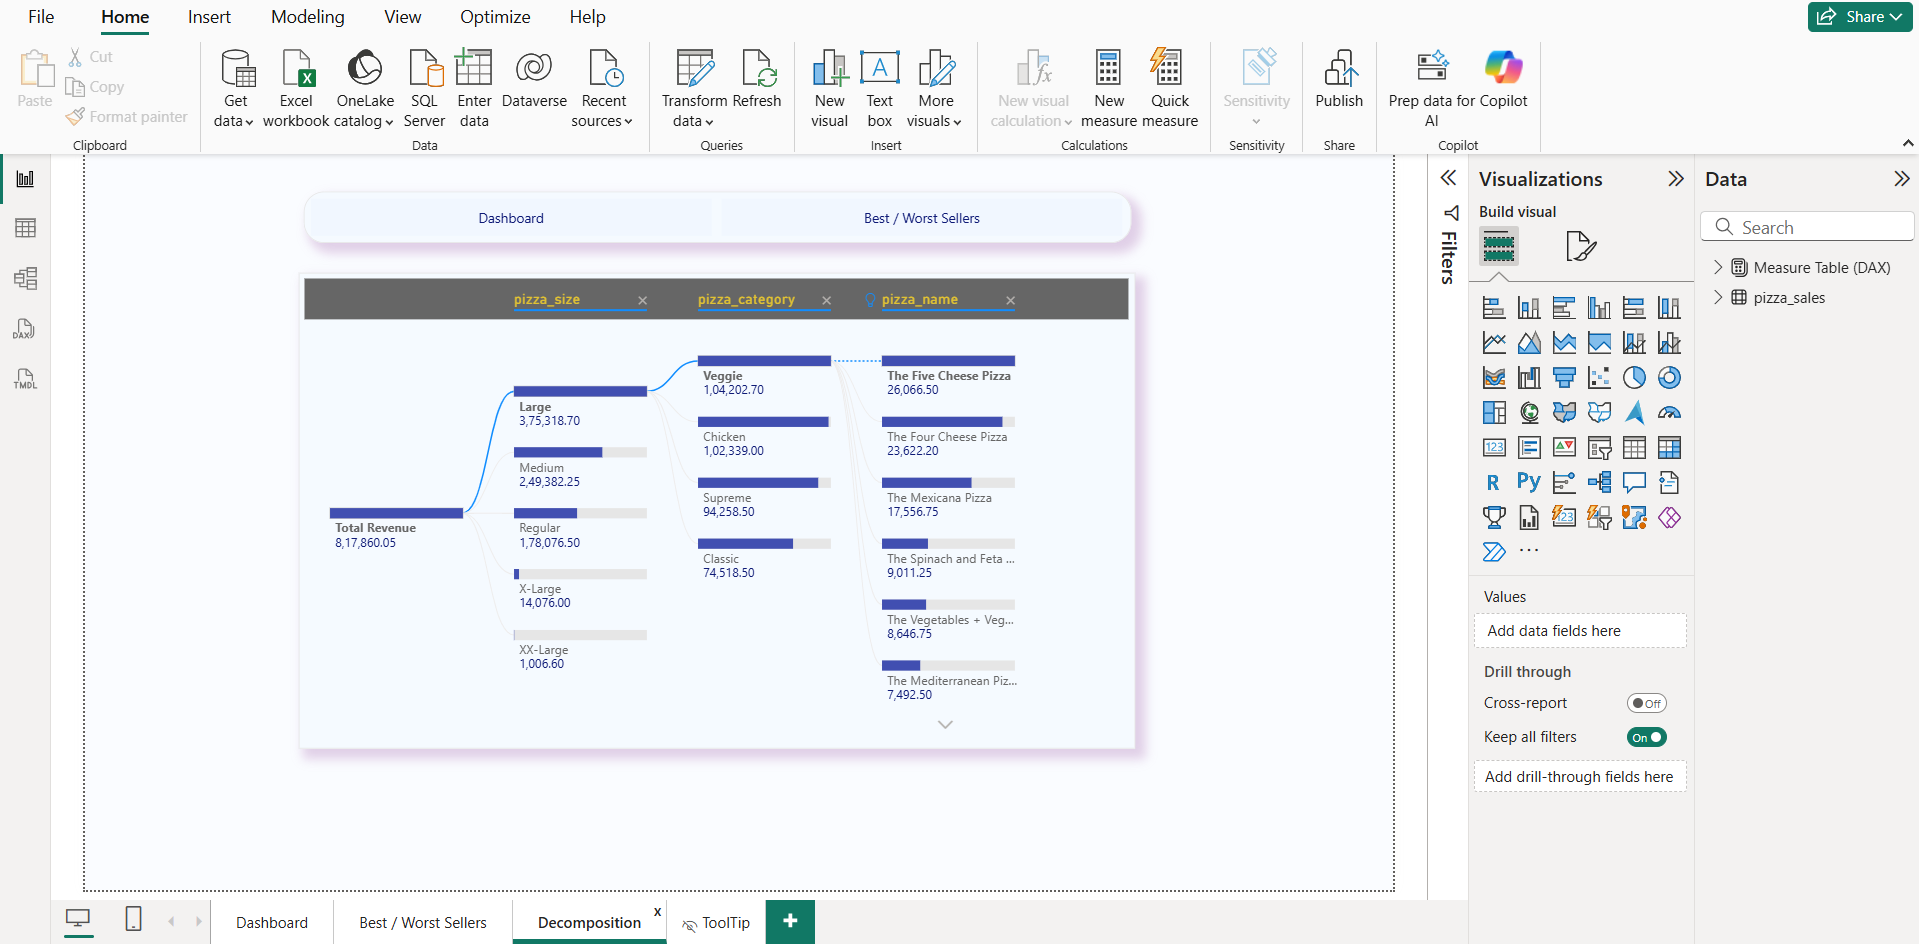

Layout of this report page (visuals, bound fields, positions):
{"tool":"powerbi","page":{"name":"Decomposition","canvas":[1280,720],"ordinal":2},"visuals":[{"type":"decompositionTreeVisual","fields":{"ExplainBy":["pizza_sales.pizza_size","pizza_sales.pizza_category","pizza_sales.pizza_name"],"Analyze":["Measure Table (DAX).Total Revenue"]},"box":[209.1,116.2,818.1,465.9],"z":0},{"type":"pageNavigator","box":[214,36.7,809.5,50.1],"z":1000}]}

Visuals, with their boxes on the page's 1280x720 design canvas (x1, y1, x2, y2). These are canvas units, not pixel positions in the 1919x944 screenshot, which may show the page scaled, cropped or inside an application window:
decompositionTreeVisual - pizza_sales.pizza_size x pizza_sales.pizza_category: box=[209, 116, 1027, 582]
pageNavigator: box=[214, 37, 1024, 87]
